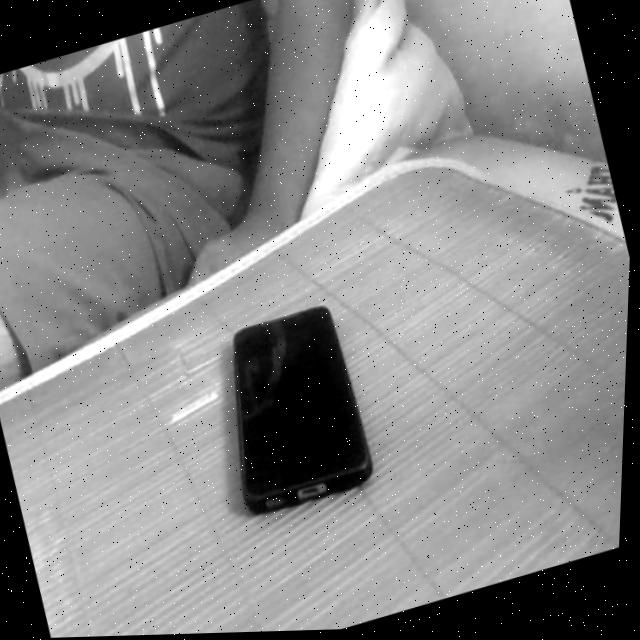phone: (180, 274, 408, 551)
